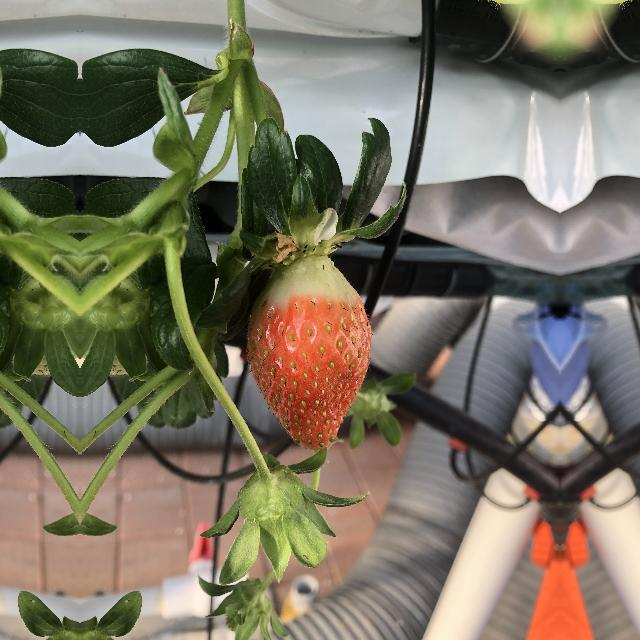Health_100: (240, 250, 374, 450)
